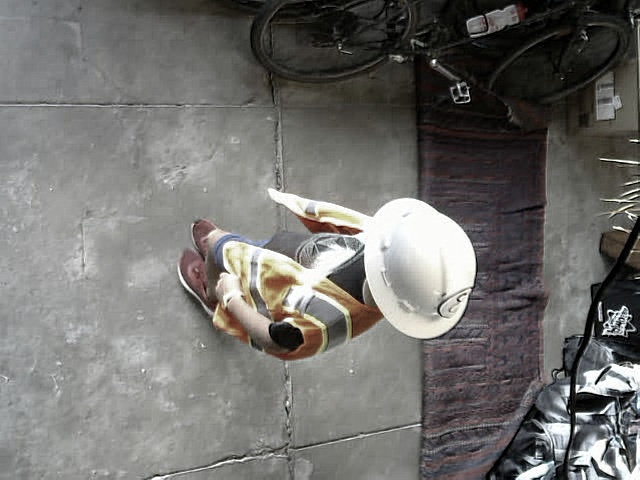three: (437, 287, 475, 321)
